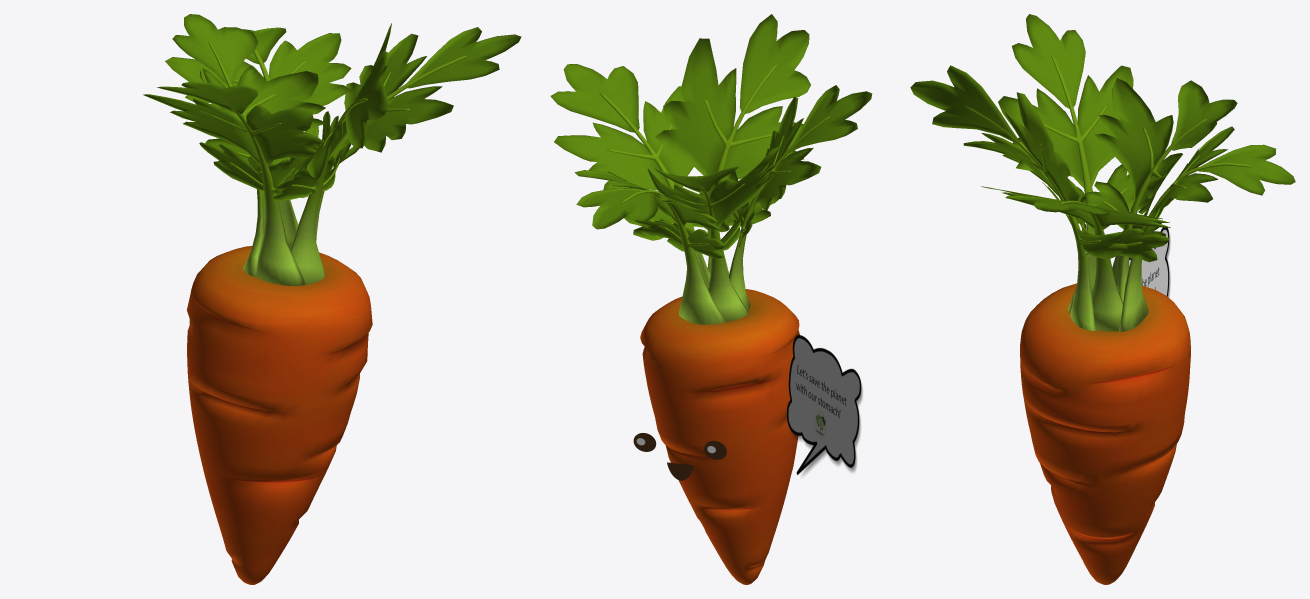
Rendered from carrot2.glb.
3 renders of one model, left to right at view 1: azimuth 30°, elevation 25°; view 2: azimuth 150°, elevation 25°; view 3: azimuth 270°, elevation 25°, orthographic. The views are drawn at different scales.
Visible parts, largest first — view 1: carrot, carrot_leaves; view 2: carrot_leaves, carrot, Quad (1), Quad; view 3: carrot_leaves, carrot, Quad (1).
Part boxes in pixels (x1,y1,x2,y2): carrot: [187, 246, 372, 584]; carrot_leaves: [143, 14, 521, 285]; carrot_leaves: [550, 14, 872, 324]; carrot: [640, 289, 799, 584]; Quad (1): [787, 334, 862, 474]; Quad: [633, 433, 726, 480]; carrot_leaves: [910, 14, 1295, 332]; carrot: [1020, 283, 1190, 584]; Quad (1): [1129, 227, 1170, 297].
Bounding box in the file's own units: 0.6061 × 0.7734 × 0.4974.
Materials: 4 (4 with a texture image).
